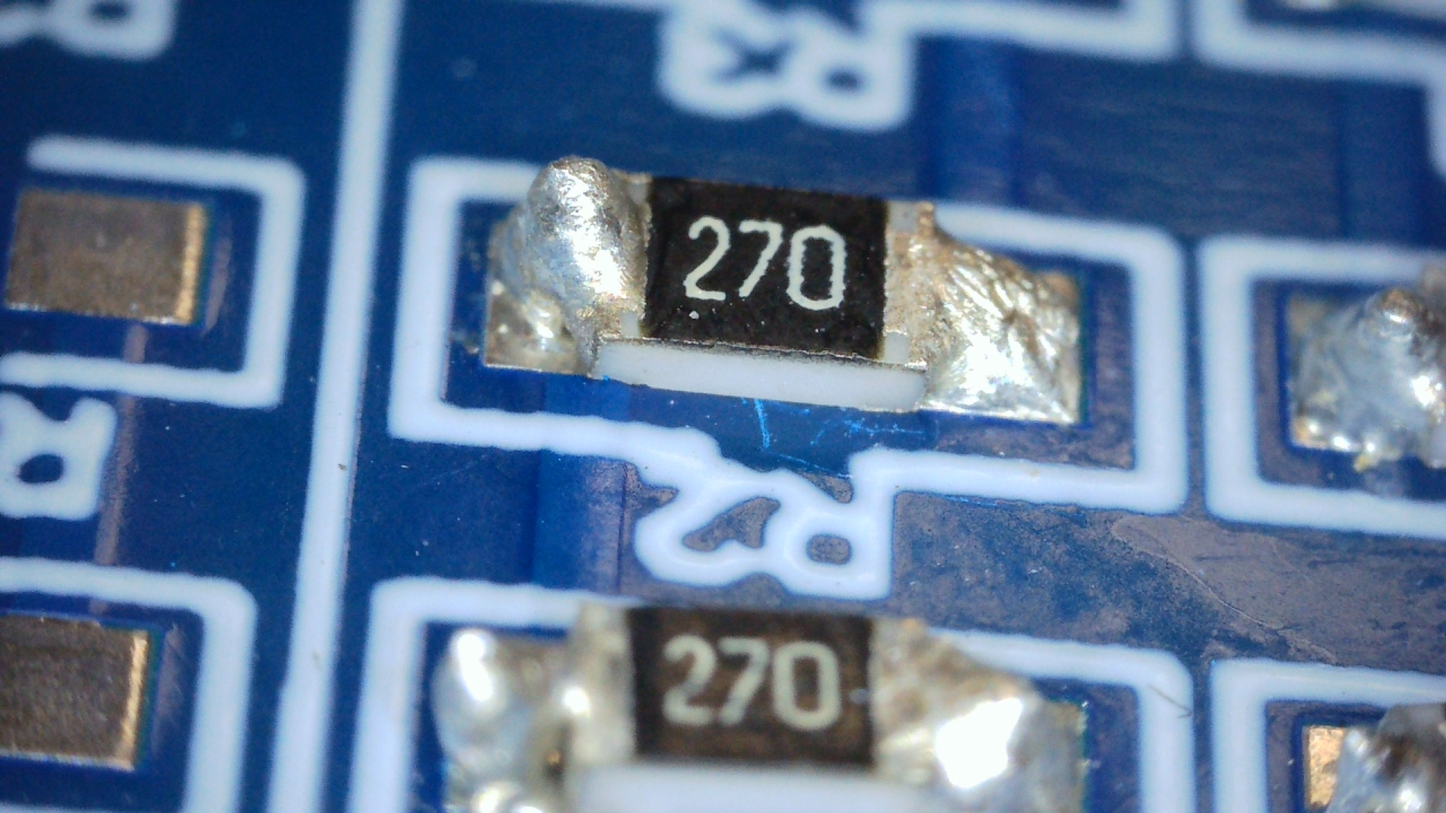NG: (501, 156, 644, 373)
OK: (882, 200, 1080, 421)
